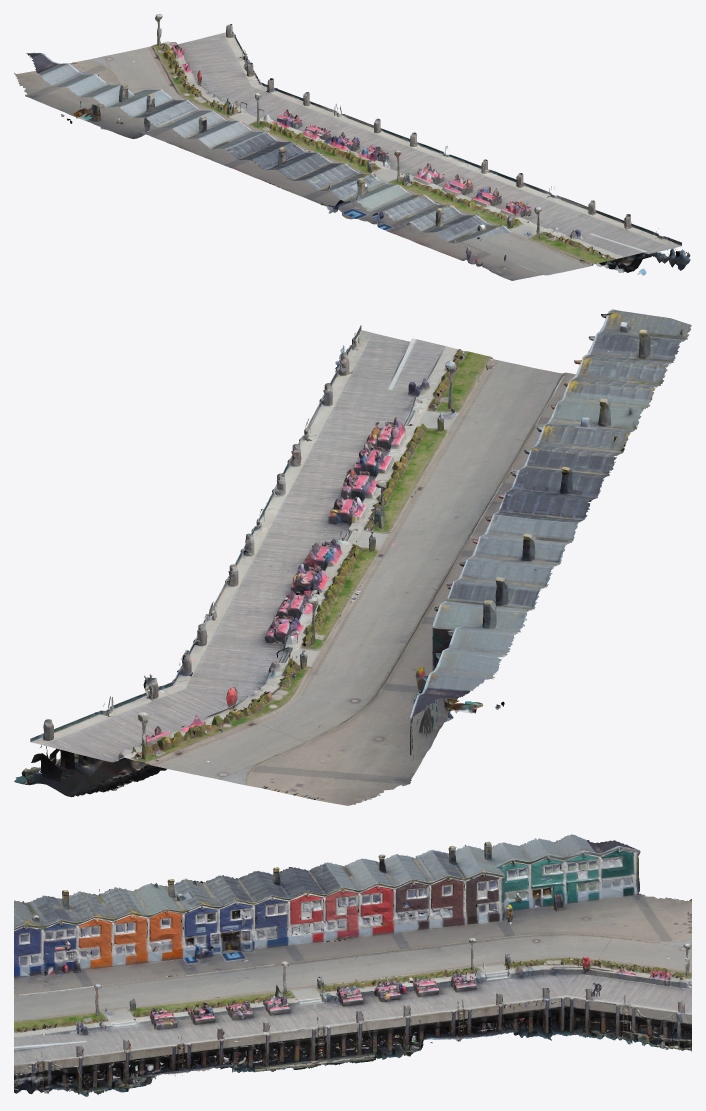
The picture shows the model from 3 angles, top to bottom: view 1: azimuth 30°, elevation 25°; view 2: azimuth 150°, elevation 25°; view 3: azimuth 270°, elevation 25°; orthographic projection. The views are drawn at different scales.
Size of the model in its own units: 42.75 by 11.91 by 66.85.
Materials: 3 (3 with a texture image).
